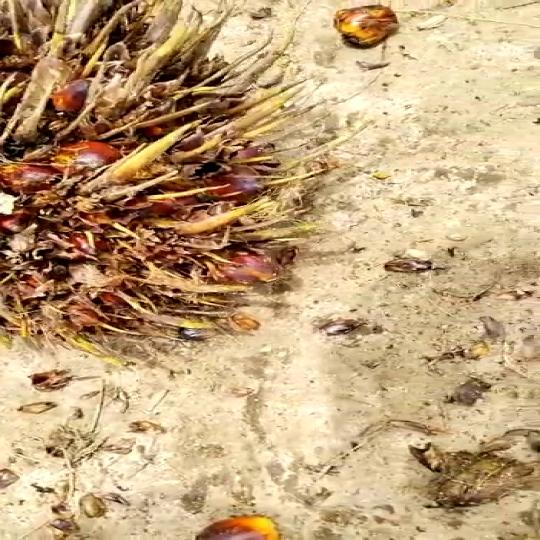terlalu masak: (0, 0, 341, 355)
